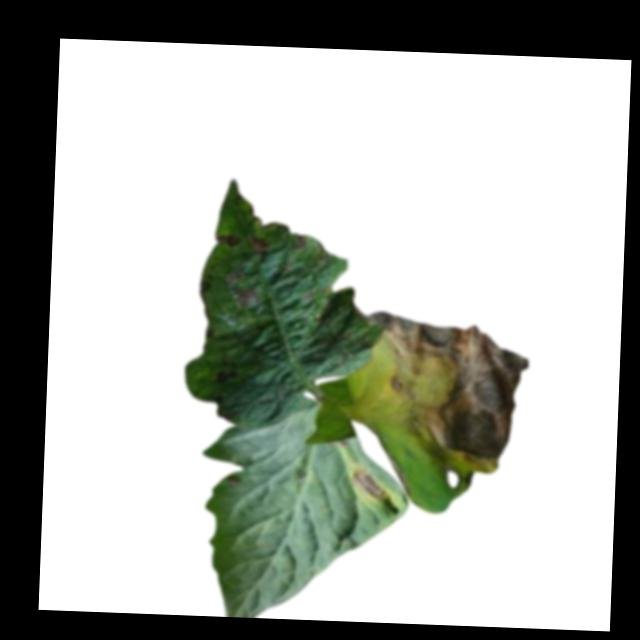Early_blight: (362, 303, 536, 483), (350, 469, 387, 504), (211, 232, 245, 252), (250, 233, 272, 255), (235, 290, 260, 308), (293, 233, 310, 251)
